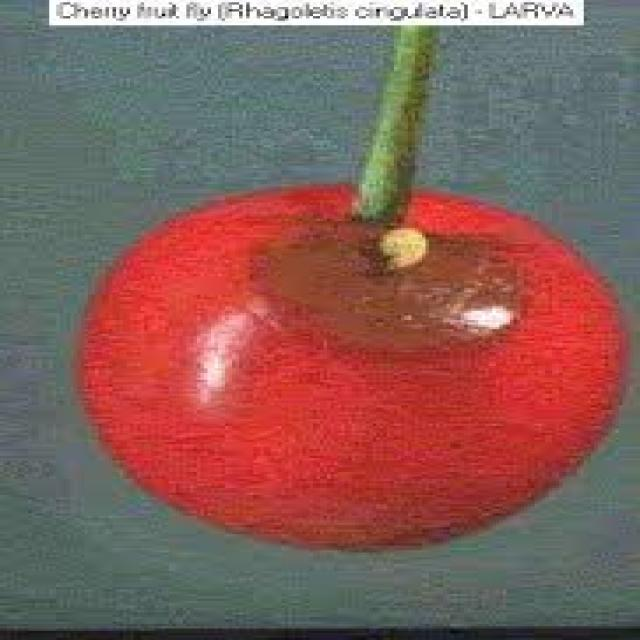organic waste: (70, 177, 619, 546)
